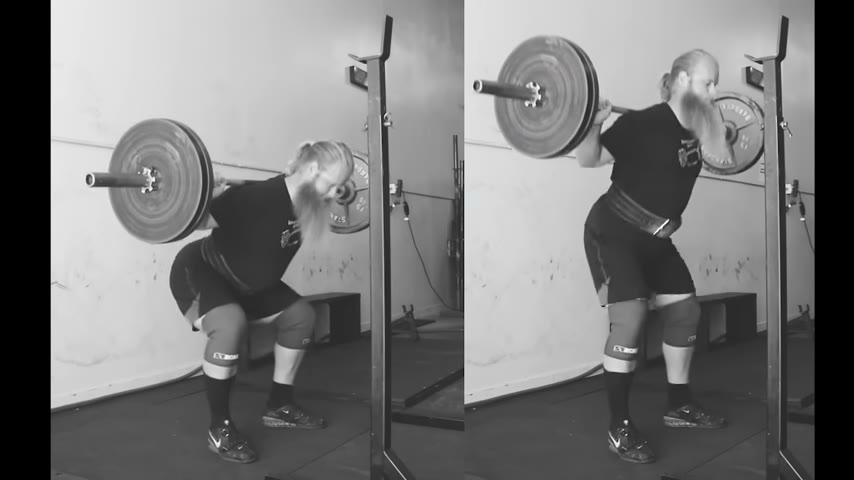barbell_plate_side: (470, 31, 566, 172), (83, 113, 176, 252), (294, 122, 373, 248), (709, 44, 780, 182)
